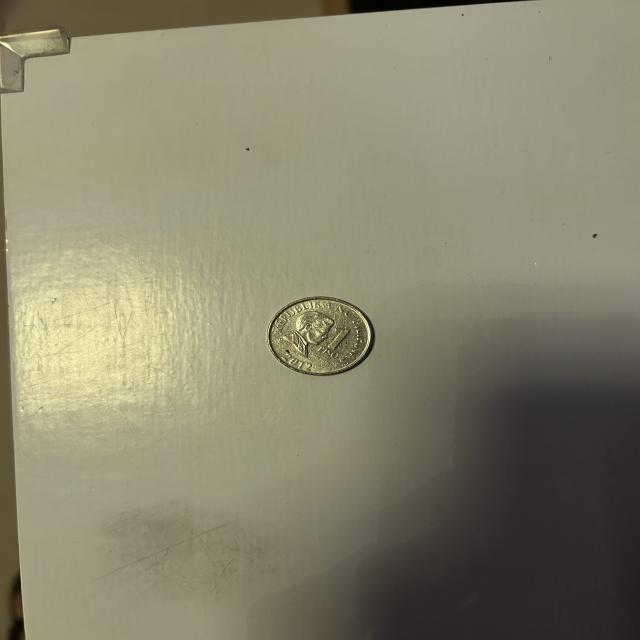1_Old_Front: (316, 326, 351, 359)
